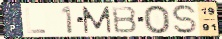1: (60, 6, 74, 35)
B: (110, 5, 139, 34)
L: (24, 6, 47, 34)
M: (81, 5, 114, 34)
O: (142, 4, 173, 35)
S: (170, 4, 200, 36)
